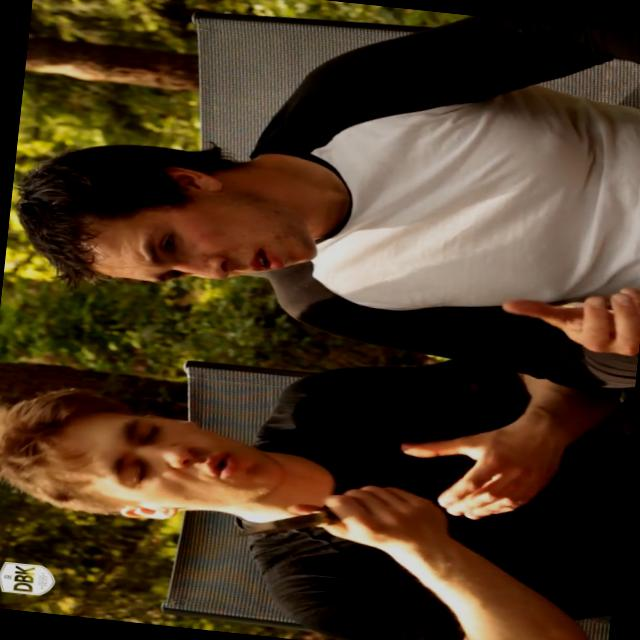knife: (209, 462, 411, 566)
